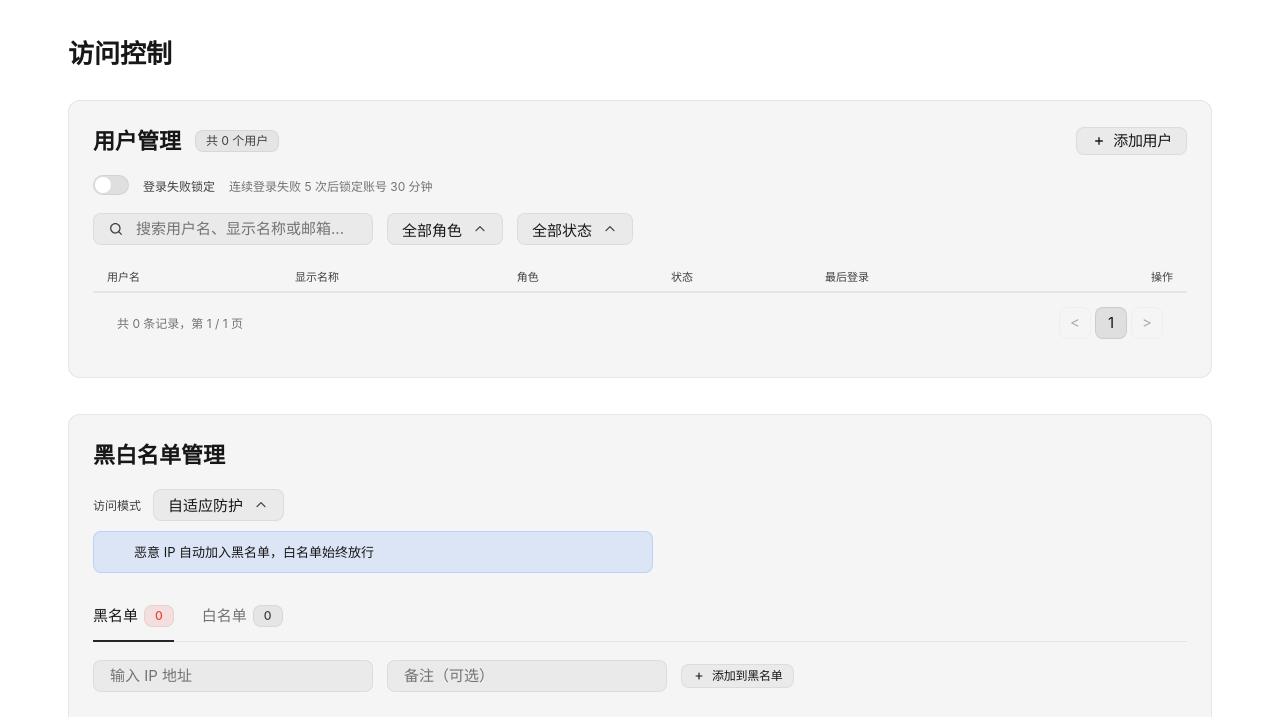
UserManagementView › 打开添加用户 modal 时默认保存按钮禁用（空用户名）
Click the button "添加用户": x=1132, y=141 [1076, 127, 1187, 155]
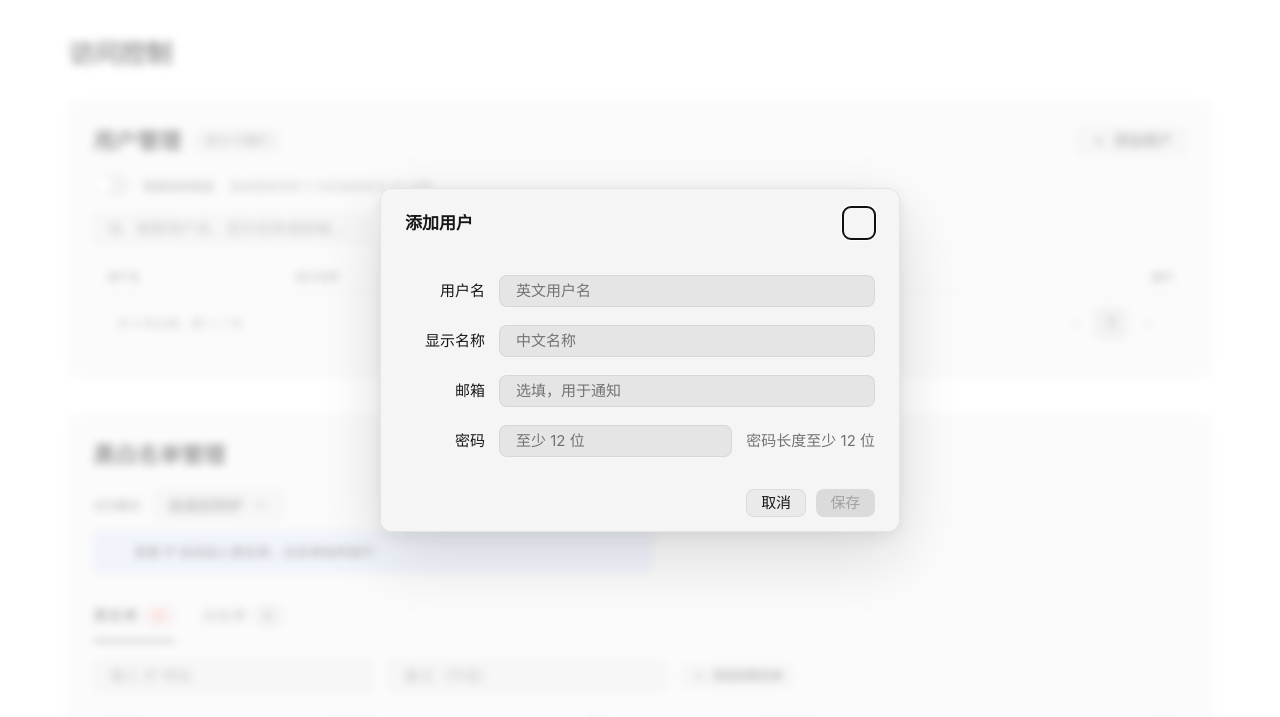
Check: the button "保存" is disabled, box [816, 489, 875, 517]
